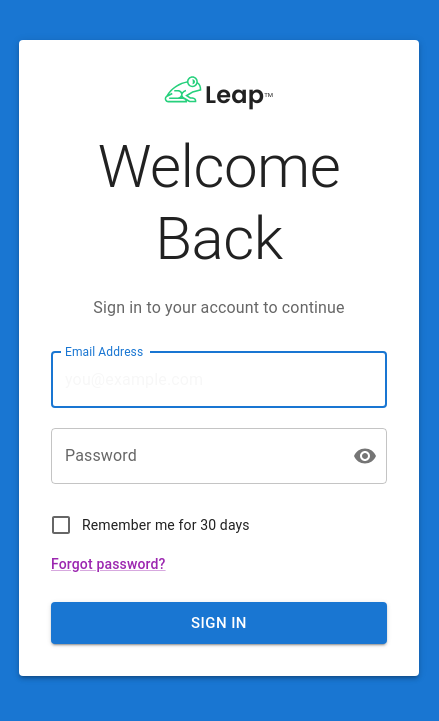
Scenario: LoginPage › form validation › should show error for invalid email format
Type "invalid-email" into the field labelled "Email Address" at point(219, 380), box [51,352,387,408]
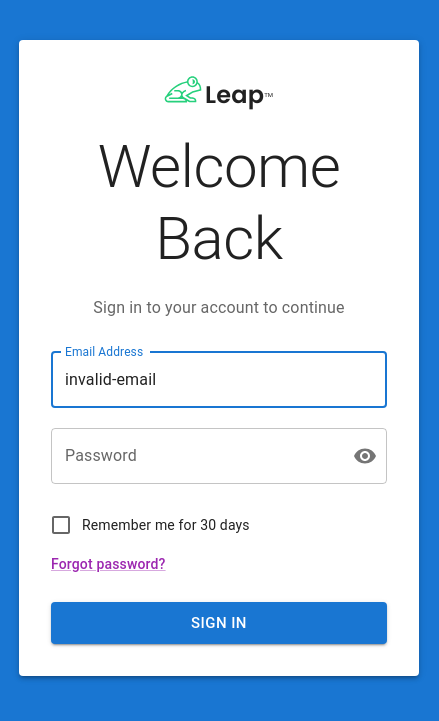
Click the button "Sign In" at point(219, 623), box [51,602,387,644]
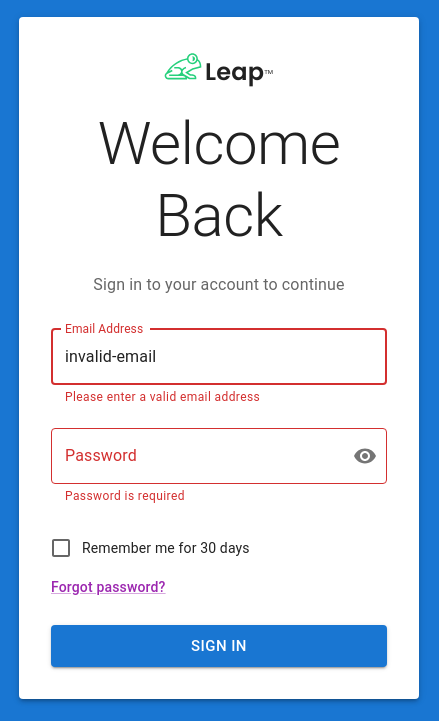
Expected: the text "Please enter a valid email address" is shown, [65,390,260,404]
